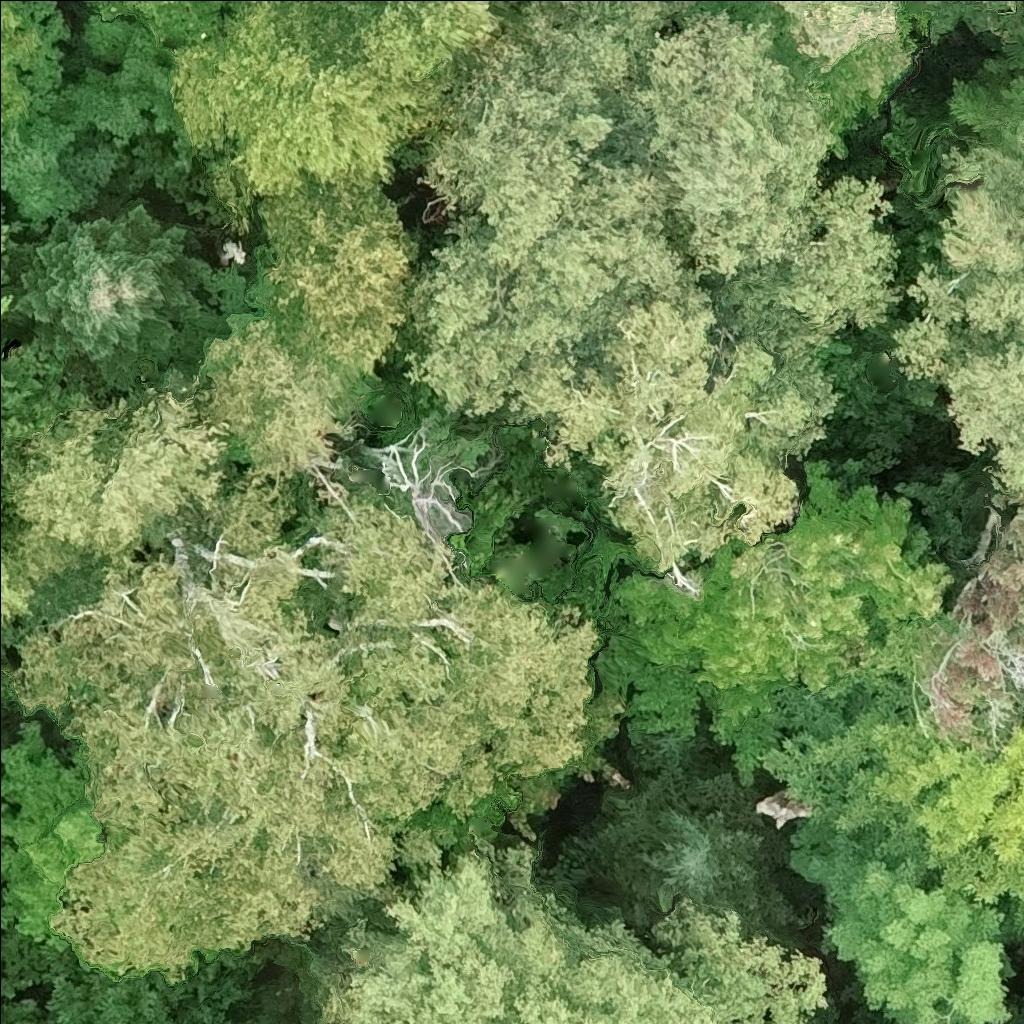crown: (12, 459, 606, 979), (394, 0, 910, 421), (500, 282, 845, 574), (301, 836, 831, 1023), (612, 460, 955, 747), (755, 703, 1023, 936), (881, 142, 1023, 504), (0, 382, 234, 594), (0, 197, 224, 402), (558, 753, 796, 939), (784, 846, 1014, 1023), (251, 182, 424, 383), (195, 309, 376, 479), (708, 0, 913, 135), (924, 507, 1023, 753), (0, 718, 99, 947), (0, 87, 121, 229), (356, 423, 476, 547), (48, 36, 175, 149), (81, 0, 244, 60), (0, 0, 71, 124), (0, 535, 38, 640), (949, 0, 1023, 25), (0, 225, 15, 286), (0, 292, 17, 323), (0, 370, 16, 389)
